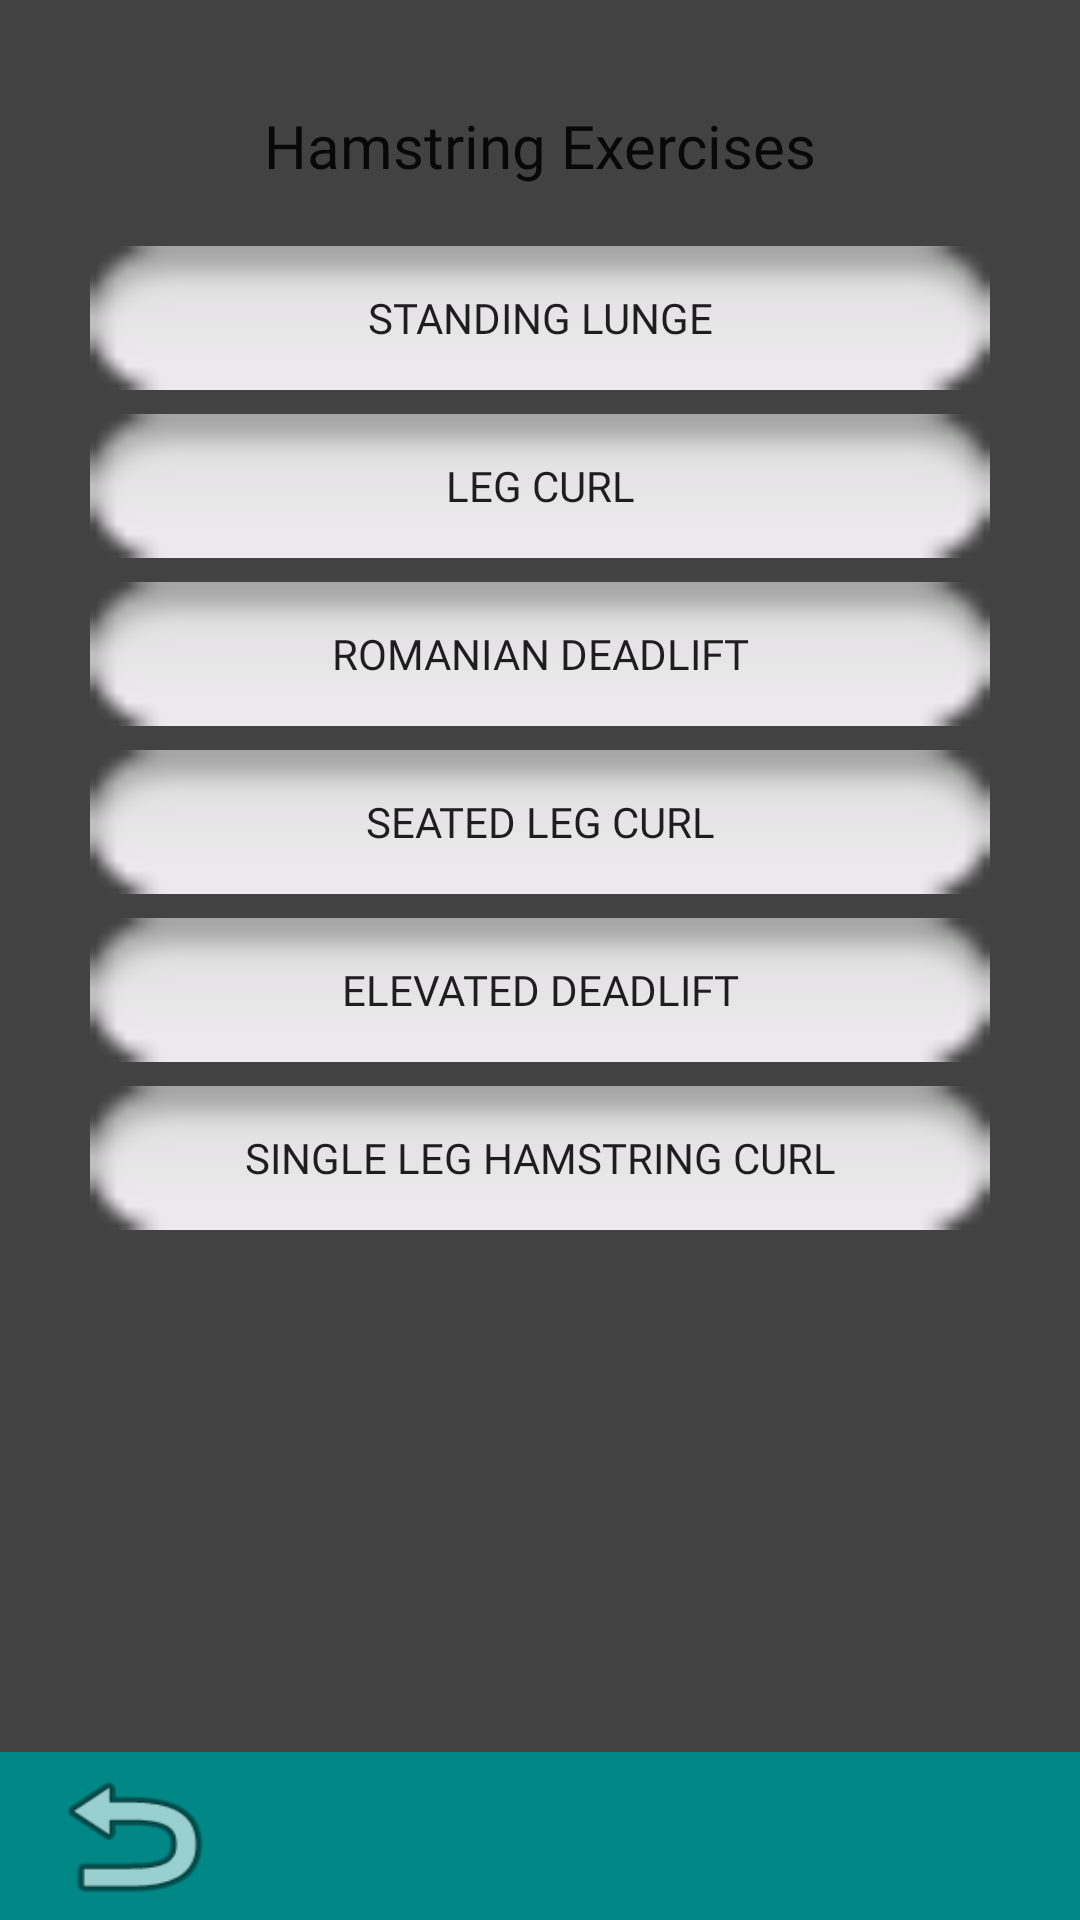

Icon bounding boxes for this 1080x1920 phone screenshot, format (x1, y1, x2, y2):
revert: (69, 1783, 202, 1892)
